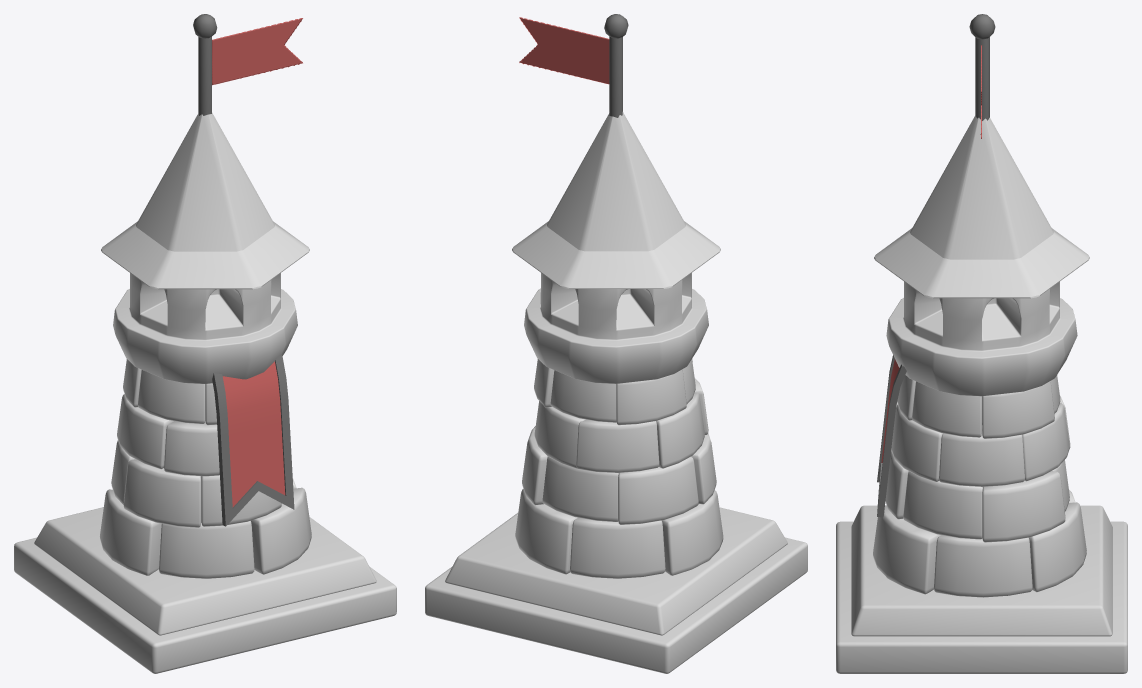
File: RookWhite.fbx
3 views of the same model, side by side, from view 1: azimuth 30°, elevation 25°; view 2: azimuth 150°, elevation 25°; view 3: azimuth 270°, elevation 25° (orthographic). The views are drawn at different scales.
Parts seen in each view (by area): view 1: Cone, base2, base, Cylinder.024, Banner_rot, Cylinder.019, Cylinder.013, Flag_v2, Banner.001, Cylinder.018, Cylinder.020, Cylinder.007 (+6 smaller); view 2: Cone, base2, Cylinder.024, base, Cylinder.021, Cylinder.014, Cylinder.009, Flag_v2, Cylinder.015, Cylinder.020, Cylinder.022, Cylinder.002 (+7 smaller); view 3: Cone, base2, Cylinder.024, base, Cylinder.023, Cylinder.016, Cylinder.011, Cylinder.017, Cylinder.018, Cylinder.022, Cylinder.004, Cylinder.005 (+6 smaller).
Part boxes in pixels (x1,y1,x2,y2): Cone: (101, 112, 309, 289); base2: (34, 507, 376, 635); base: (14, 537, 396, 673); Cylinder.024: (113, 273, 297, 383); Banner_rot: (222, 361, 285, 507); Cylinder.019: (159, 521, 254, 578); Cylinder.013: (123, 459, 201, 527); Flag_v2: (212, 18, 302, 85); Banner.001: (212, 355, 294, 526); Cylinder.018: (251, 487, 311, 574); Cylinder.020: (100, 489, 161, 575); Cylinder.007: (164, 421, 219, 476); Cone: (512, 112, 720, 288); base2: (445, 507, 787, 635); Cylinder.024: (524, 273, 708, 383); base: (425, 537, 807, 673); Cylinder.021: (570, 517, 665, 578); Cylinder.014: (618, 456, 698, 524); Cylinder.009: (576, 419, 659, 472); Flag_v2: (519, 17, 609, 84); Cylinder.015: (542, 456, 618, 521); Cylinder.020: (661, 490, 723, 575); Cylinder.022: (515, 489, 577, 574); Cylinder.002: (616, 369, 686, 425); Cone: (874, 115, 1089, 298); base2: (851, 505, 1112, 636); Cylinder.024: (886, 281, 1077, 396); base: (836, 521, 1127, 673); Cylinder.023: (934, 535, 1032, 597); Cylinder.016: (982, 471, 1065, 542); Cylinder.011: (939, 431, 1024, 486); Cylinder.017: (903, 471, 982, 539); Cylinder.018: (873, 505, 940, 594); Cylinder.022: (1029, 502, 1086, 592); Cylinder.004: (982, 381, 1054, 438); Cylinder.005: (912, 381, 981, 437).
Size of the model in its own units: 4 by 9.05 by 4.
